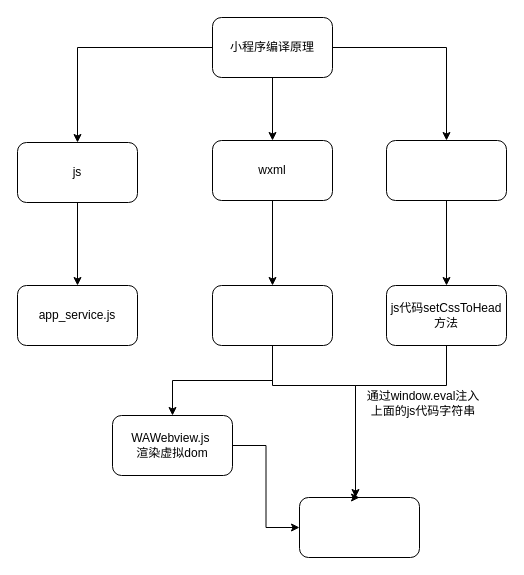
This 524x575 diagram has some shape labels left out. The centre of each missing label's shape, as x and y in pixels:
$gwx方法 (生成一个js对象，类似于虚拟dom): the point at 272,315
page-frame.html: the point at 359,527
wxss: the point at 446,170
